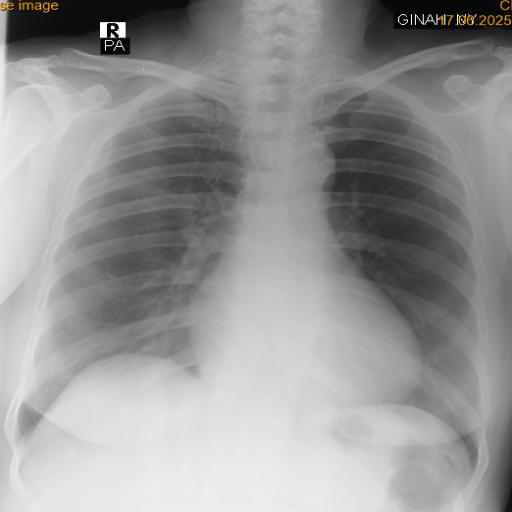kardiomegali: (10, 46, 490, 464)
